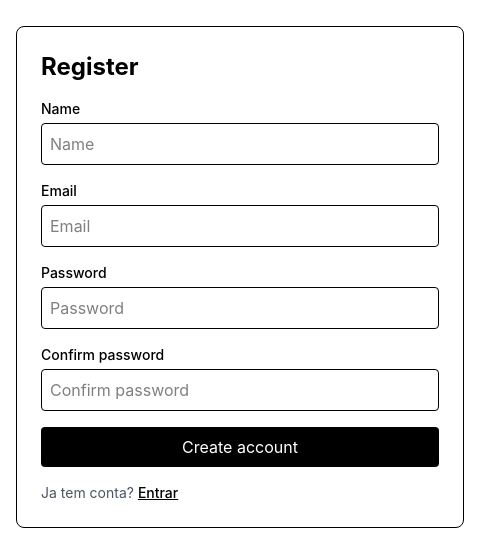
it: RegisterPage › shows a validation message when password confirmation does not match
In the field labelled "Name": (240, 144) [41,123,439,165], type "Grace Hopper"
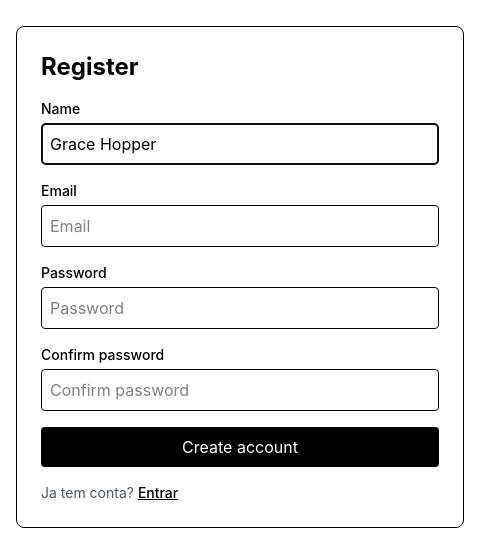
In the field labelled "Email": (240, 226) [41,205,439,247], type "grace@example.com"
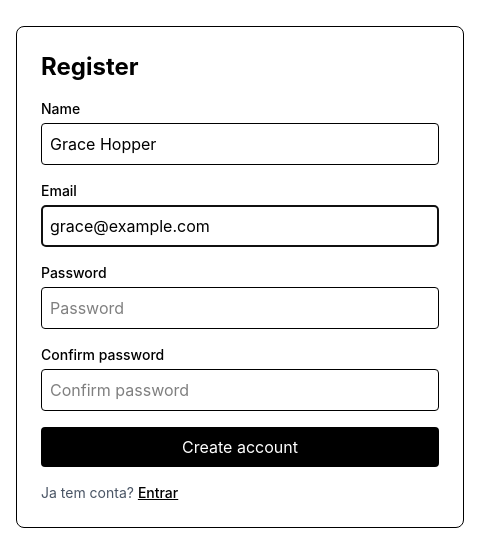
In the password field labelled "Password": (240, 308) [41,287,439,329], type "secret123"
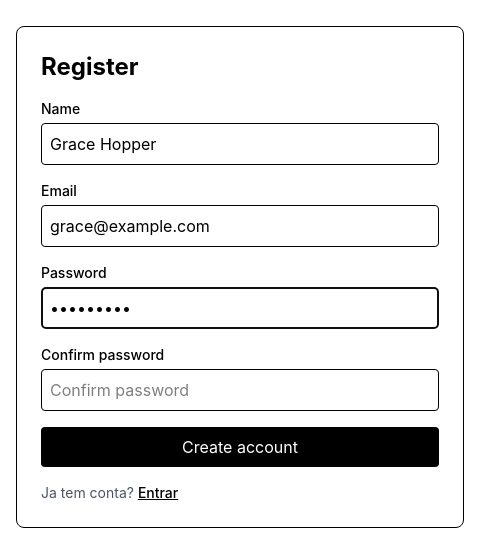
In the password field labelled "Confirm password": (240, 390) [41,369,439,411], type "different"
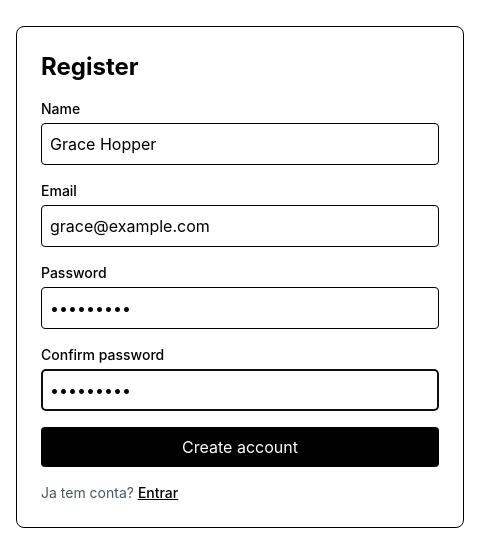
Click the button "Create account": click(240, 447) [41,427,439,467]
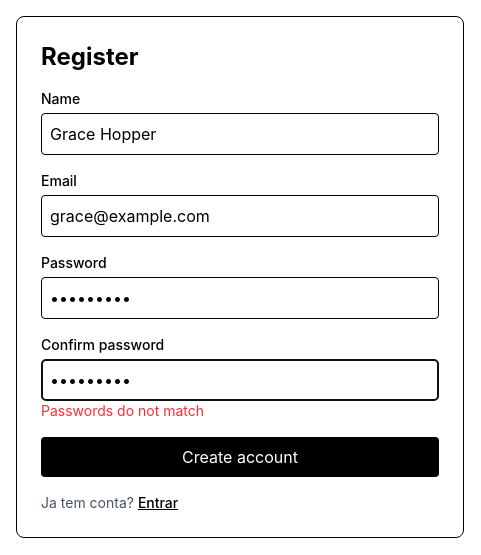
Result: the text "Passwords do not match" is shown at [41,402,204,419]
